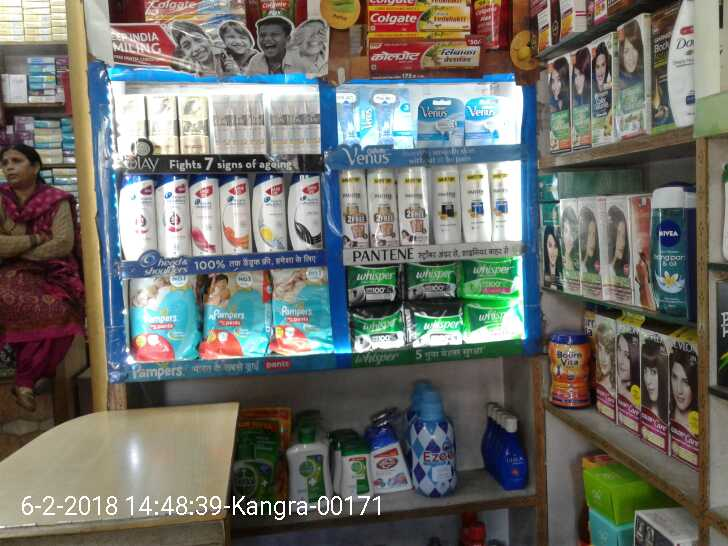venus: (418, 98, 464, 148), (464, 100, 510, 148), (373, 89, 412, 144), (336, 91, 373, 144)
